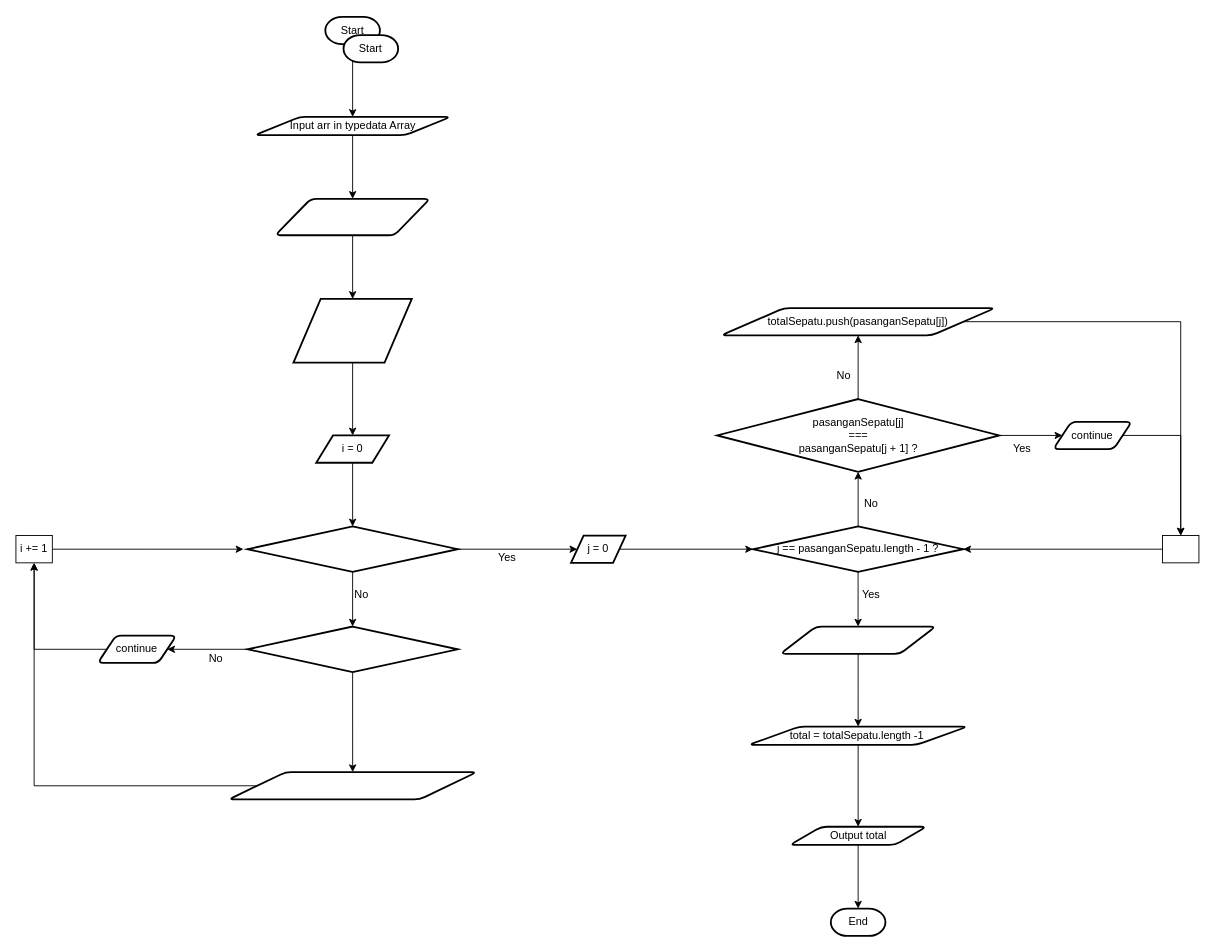
Image size: 1215x952. Some labels were removed from this diagram. Here are the shapes that lost their labels. From the top down, the centre of each, then its label:
the point at 352,216: pasanganSepatu = [] totalSepatu = []
the point at 352,330: sortedArr = arr.sort((a,b) => { return a - b })
the point at 352,548: i == sortedArr.length - 1 ?
the point at 1180,549: j += 1
the point at 352,648: sortedArr[i] === sortedArr[i + 1] ?
the point at 857,639: totalSepatu.pop()
the point at 352,785: pasanganSepatu.push(sortedArr[i])
